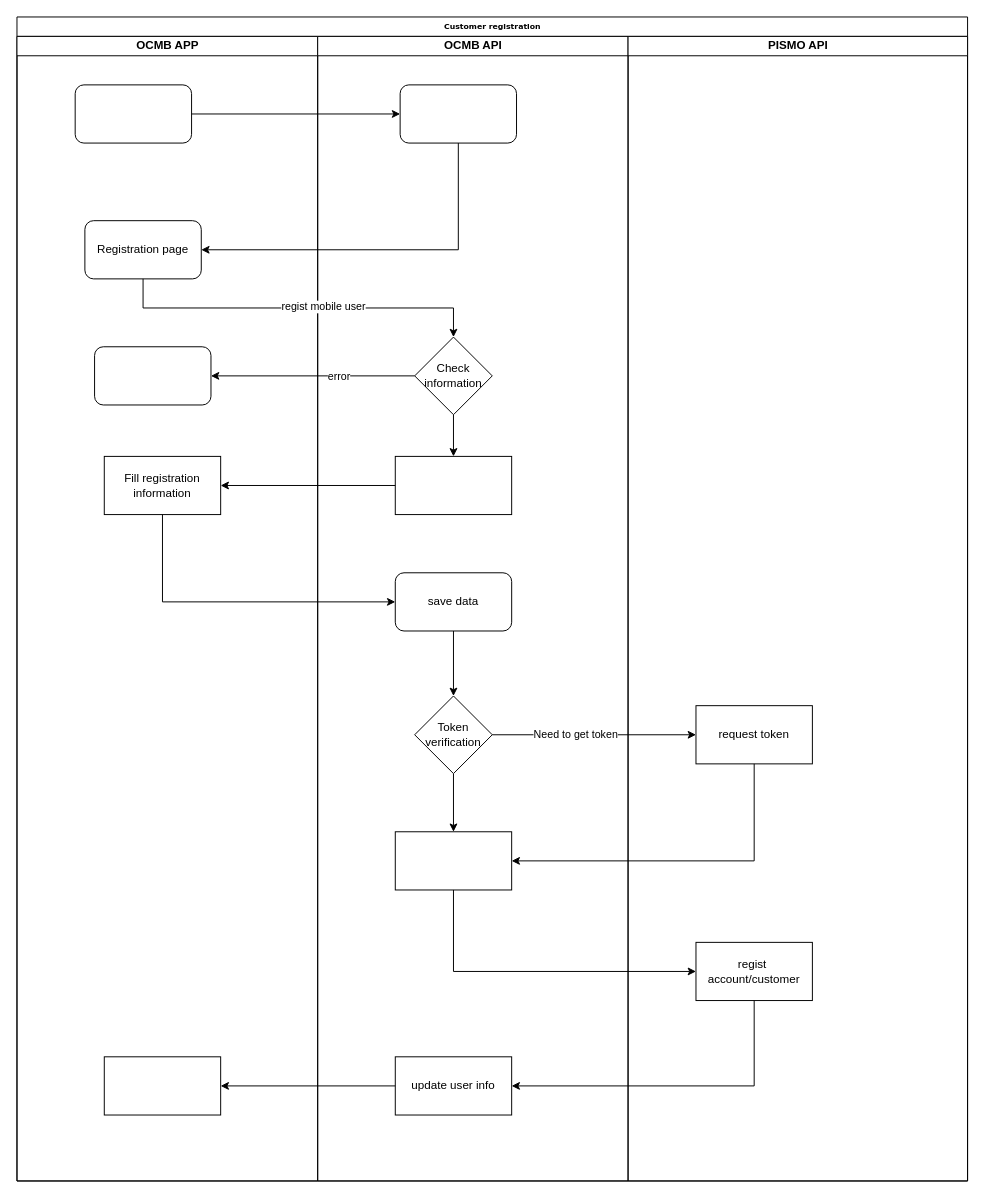
The diagram is 985 pixels wide and 1198 high, and some of its shapes have lost their labels. Here are the shapes that lost their labels. From the top down, the centre of each, then its label:
(133,113): Application for registration
(458,113): Read registration process configuration
(152,375): error message
(453,485): add mobile user
(453,860): get token
(162,1085): regist account/customer successful
